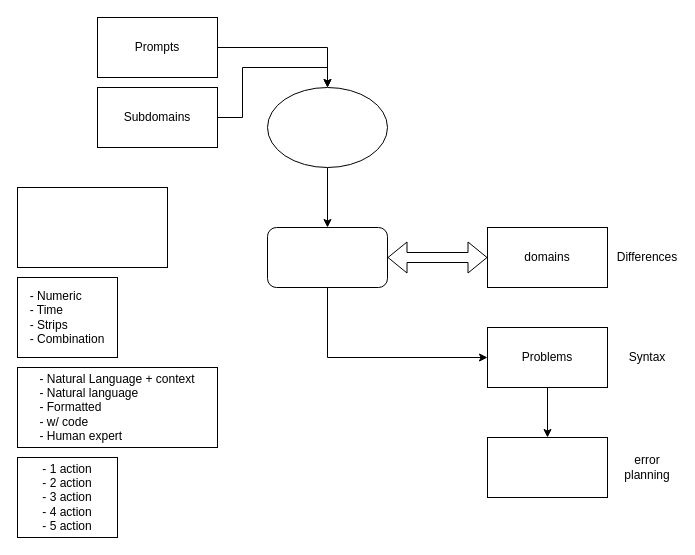
Image size: 695x555. Some labels were removed from this diagram. Each missing label, with the box of its shape:
- Syntax error - error planning - differences in domains: (16, 186, 168, 268)
Domain: (266, 226, 388, 288)
LLM: (266, 86, 388, 168)
Plans: (486, 436, 608, 498)
